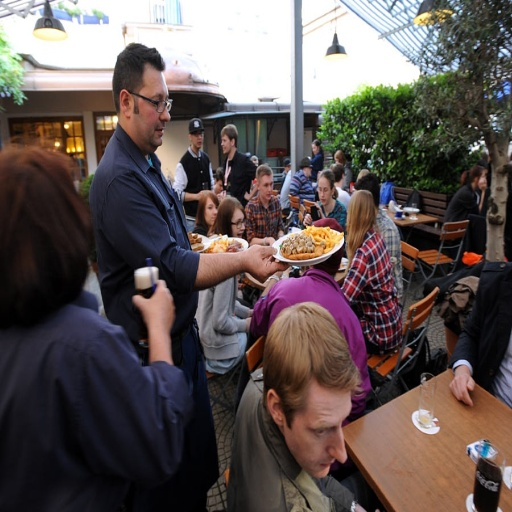hand: (130, 278, 178, 341), (228, 239, 285, 287), (448, 370, 476, 409), (195, 190, 208, 203), (300, 212, 311, 226), (479, 176, 486, 193), (245, 315, 250, 333), (244, 192, 250, 203)
